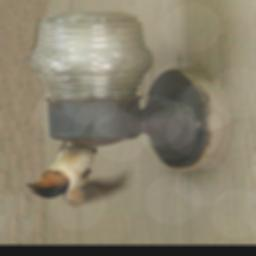Swallow: (25, 141, 131, 209)
